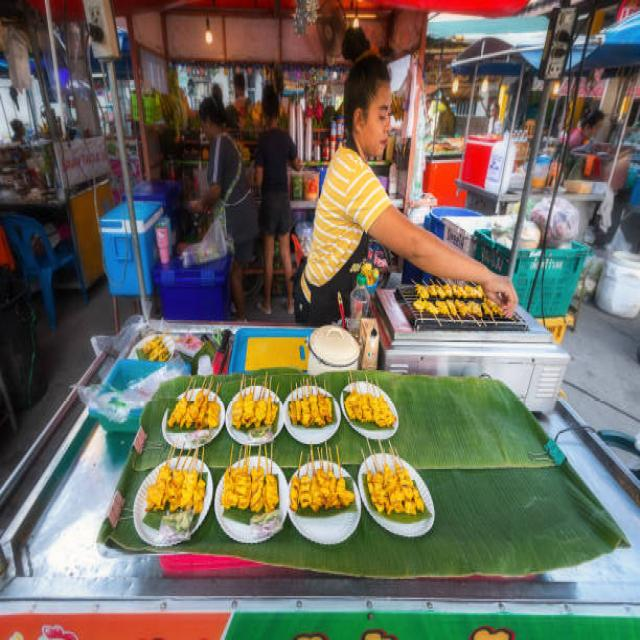Emperan: (0, 246, 639, 631)
